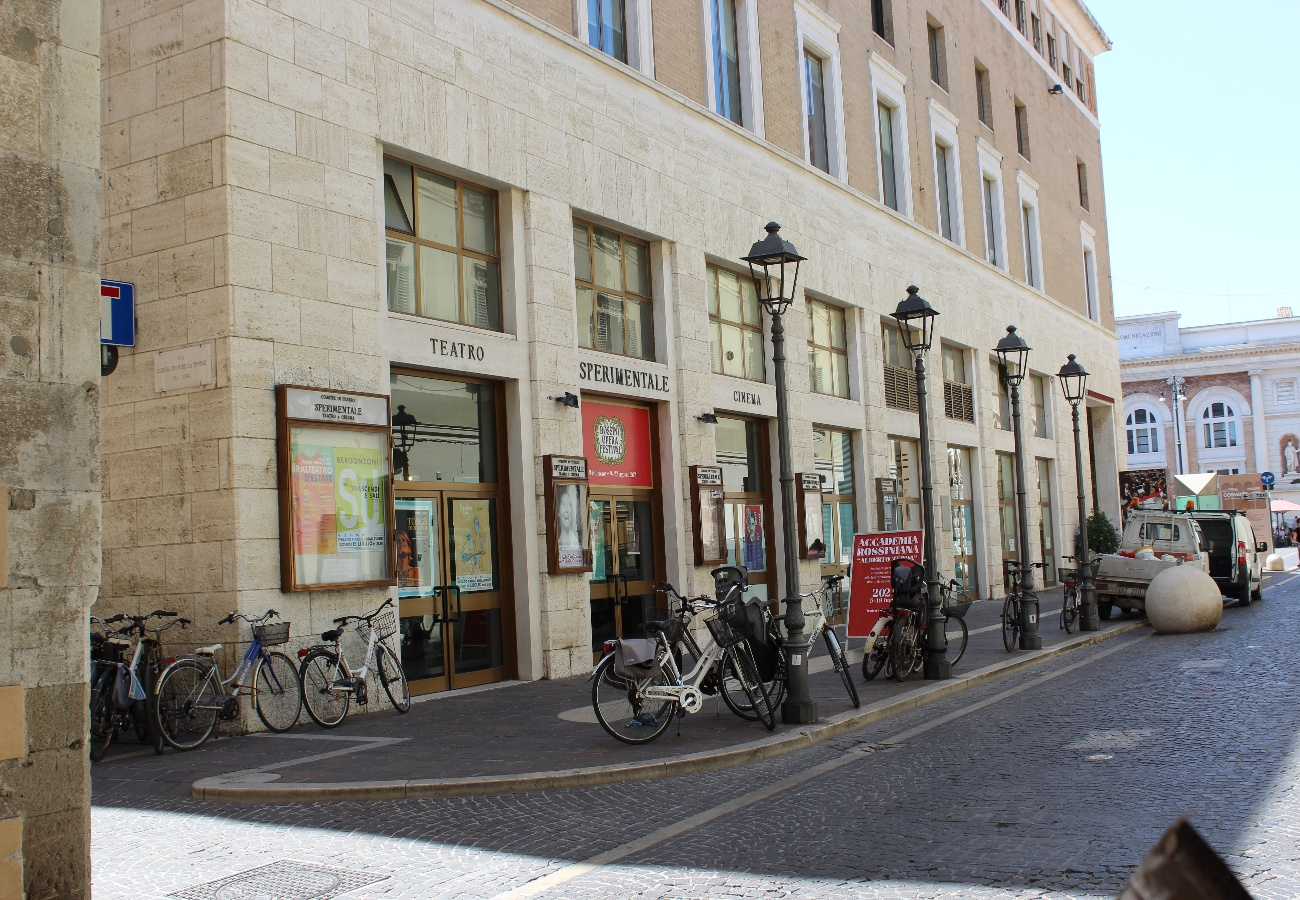Teatro Sperimentale: (237, 1, 1102, 732)
